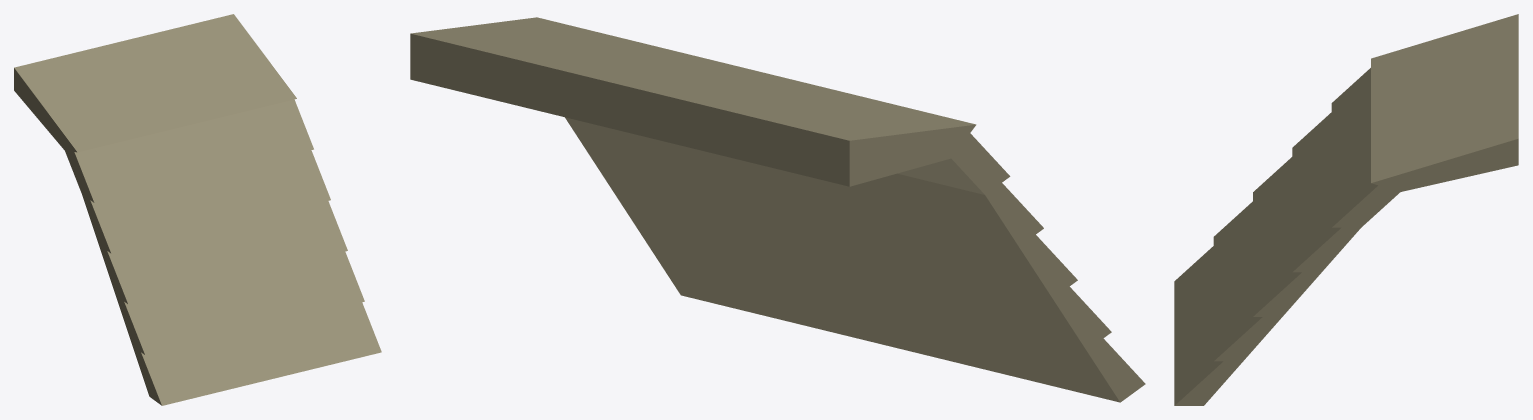
The model's file is victorian_roof_1.fbx.
3 renders of one model, left to right at view 1: azimuth 30°, elevation 25°; view 2: azimuth 150°, elevation 25°; view 3: azimuth 270°, elevation 25°, orthographic. The views are drawn at different scales.
Visible parts, largest first — view 1: Cube.234; view 2: Cube.234; view 3: Cube.234.
Part boxes in pixels (left/top/right/bottom): Cube.234: left=14, top=14, right=381, bottom=405; Cube.234: left=410, top=17, right=1145, bottom=402; Cube.234: left=1174, top=14, right=1518, bottom=405.
Bounding box in the file's own units: 300 × 300 × 350.
